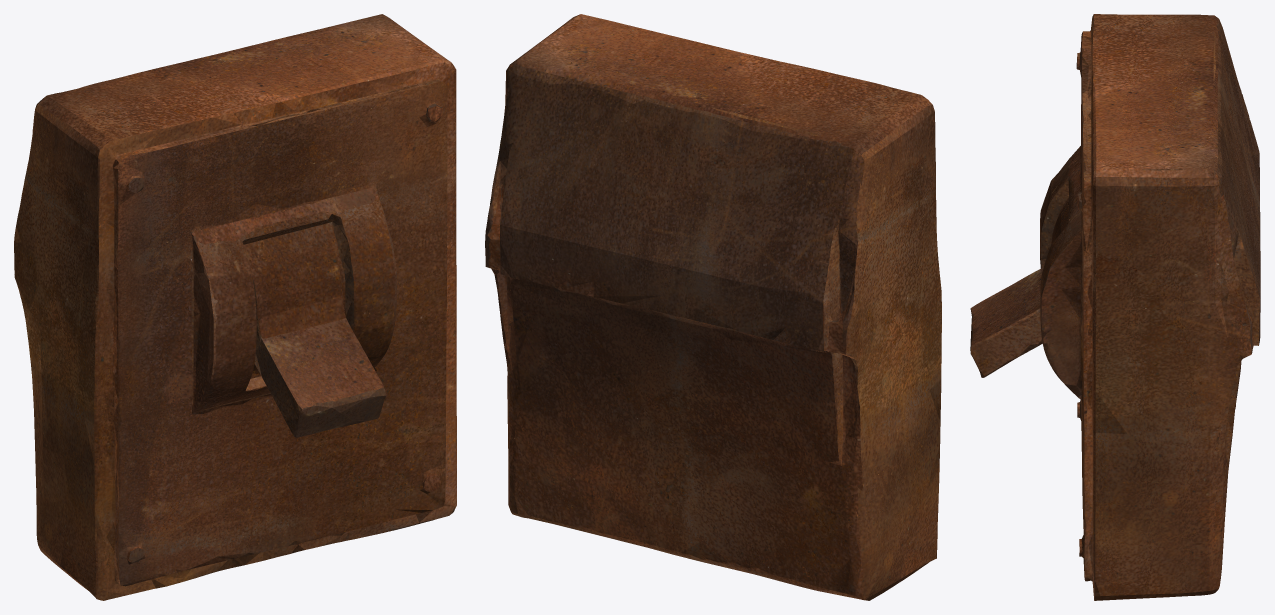
The model's file is BREAKER SWITCH.fbx.
3 renders of one model, left to right at view 1: azimuth 30°, elevation 25°; view 2: azimuth 150°, elevation 25°; view 3: azimuth 270°, elevation 25°, orthographic. The views are drawn at different scales.
Parts seen in each view (by area): view 1: model; view 2: model; view 3: model.
Boxes of the visible parts, box(x1,y1,x2,y2) form: model: box(14, 14, 456, 600); model: box(485, 14, 941, 600); model: box(970, 14, 1260, 600).
Size of the model in its own units: 1.58 by 1.9 by 1.16.
Materials: 1 (1 with a texture image).
